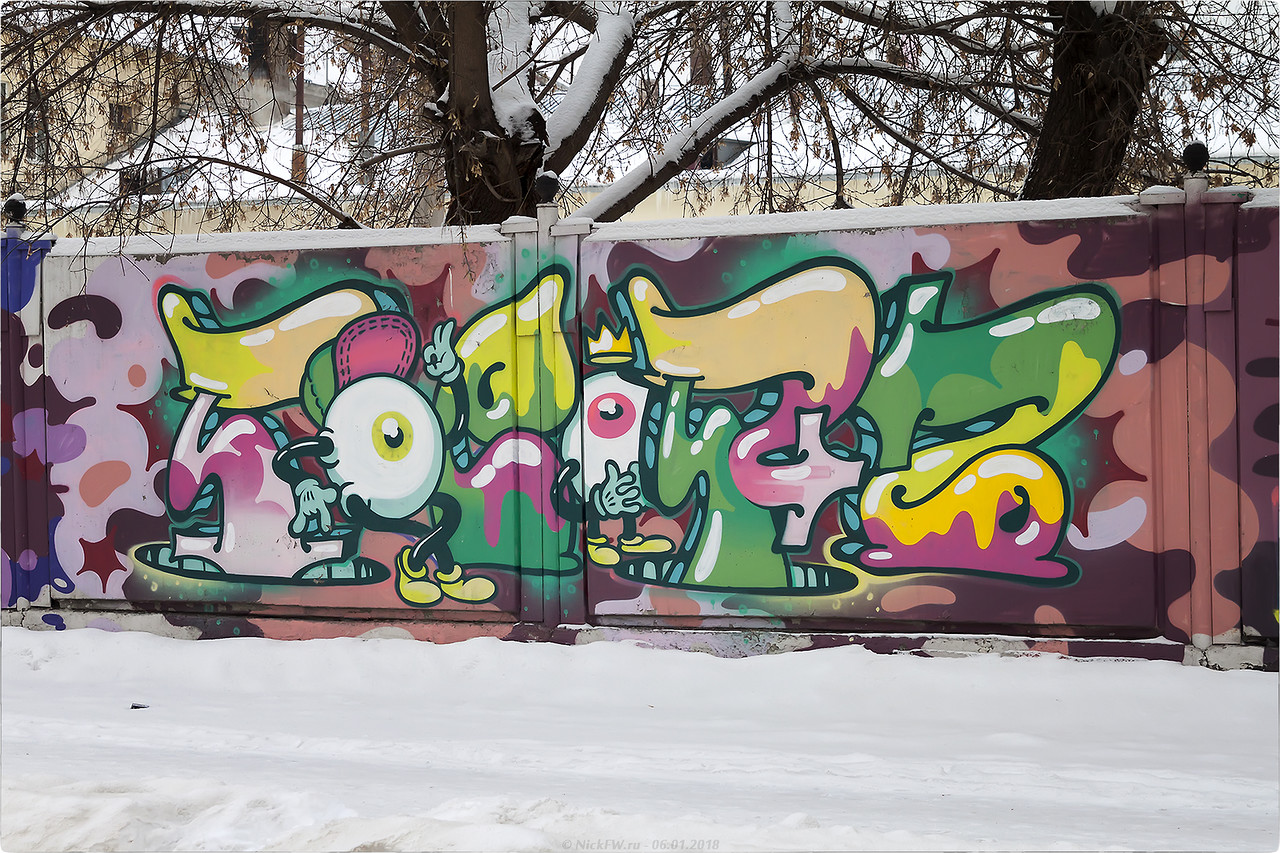graphite: (110, 277, 1163, 636)
